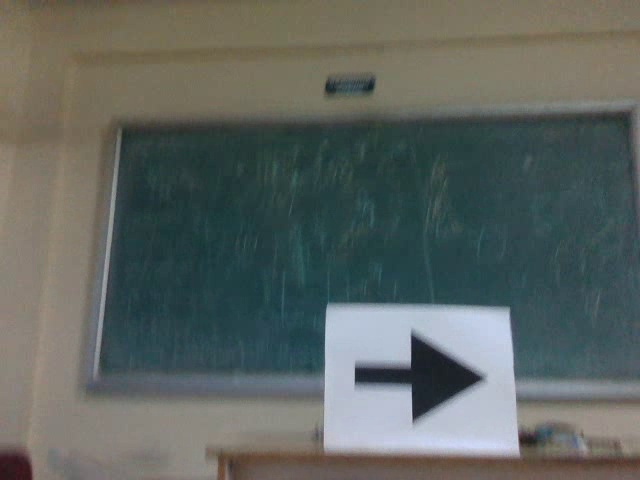Right: (346, 326, 493, 429)
